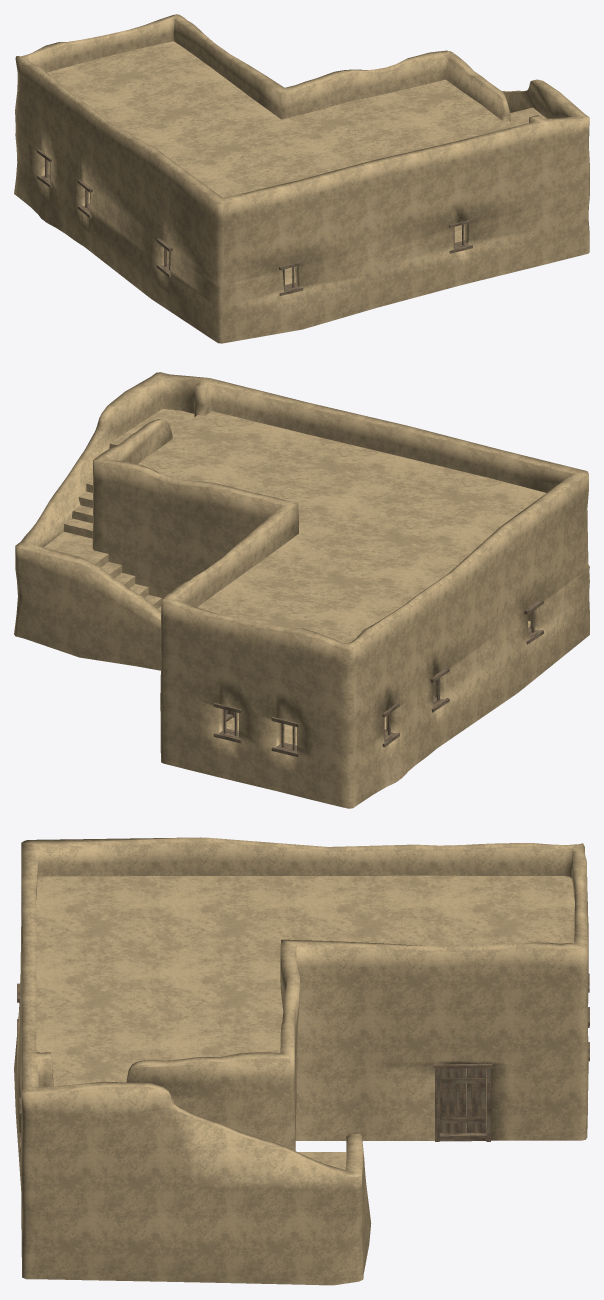
The model's file is egypt_house_007.glb.
3 renders of one model, top to bottom at view 1: azimuth 30°, elevation 25°; view 2: azimuth 150°, elevation 25°; view 3: azimuth 270°, elevation 25°, orthographic. The views are drawn at different scales.
Parts seen in each view (by area): view 1: roof, walls; view 2: roof, walls; view 3: roof, walls.
Boxes of the visible parts, left/top/right/bottom form: roof: left=15, top=14, right=589, bottom=238; walls: left=14, top=90, right=589, bottom=343; roof: left=58, top=372, right=588, bottom=684; walls: left=14, top=412, right=589, bottom=808; roof: left=21, top=837, right=588, bottom=1142; walls: left=14, top=952, right=589, bottom=1285.
Size of the model in its own units: 9.92 by 3.71 by 9.45.
2 materials, 2 textured.
